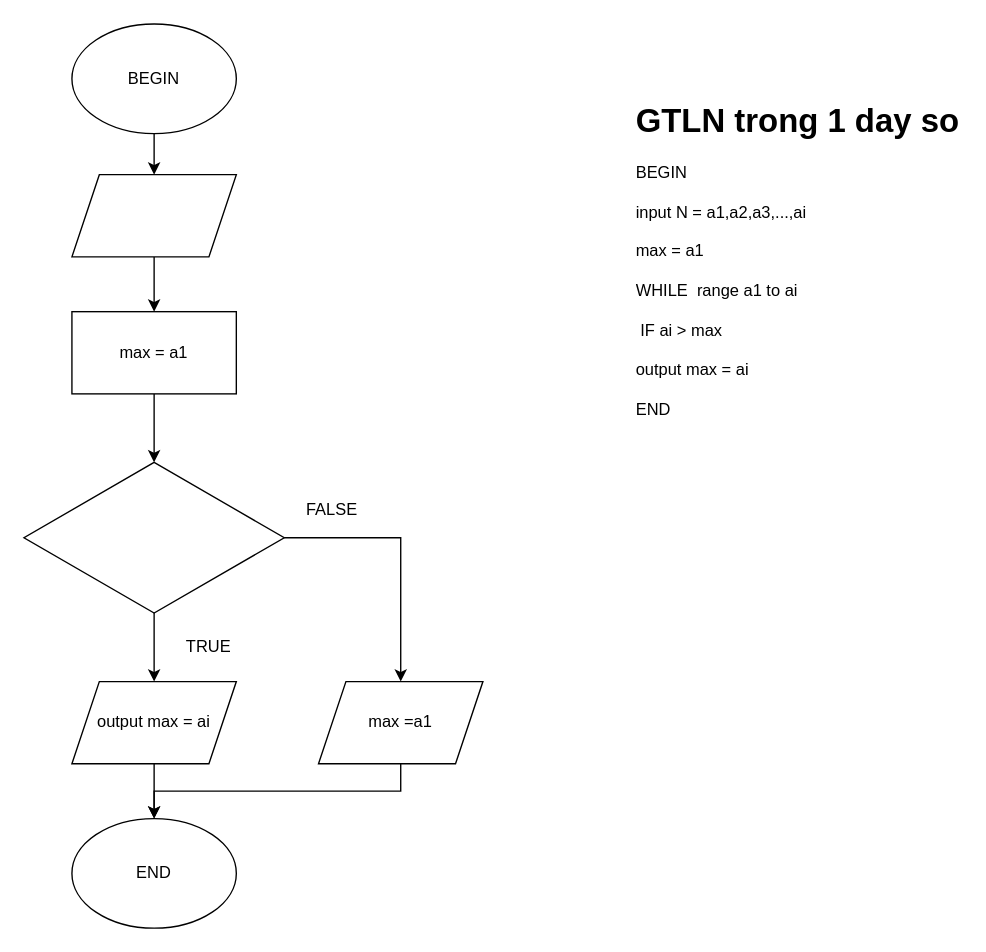
Some shapes in this 986 by 952 pixel diagram are drawn without their labels. Each missing label, with the centre of its shape:
"Input N = a1, a2,a3,...ai" belongs at (153,215).
"WHILE range a1 to ai IF ai > max" belongs at (153,537).
